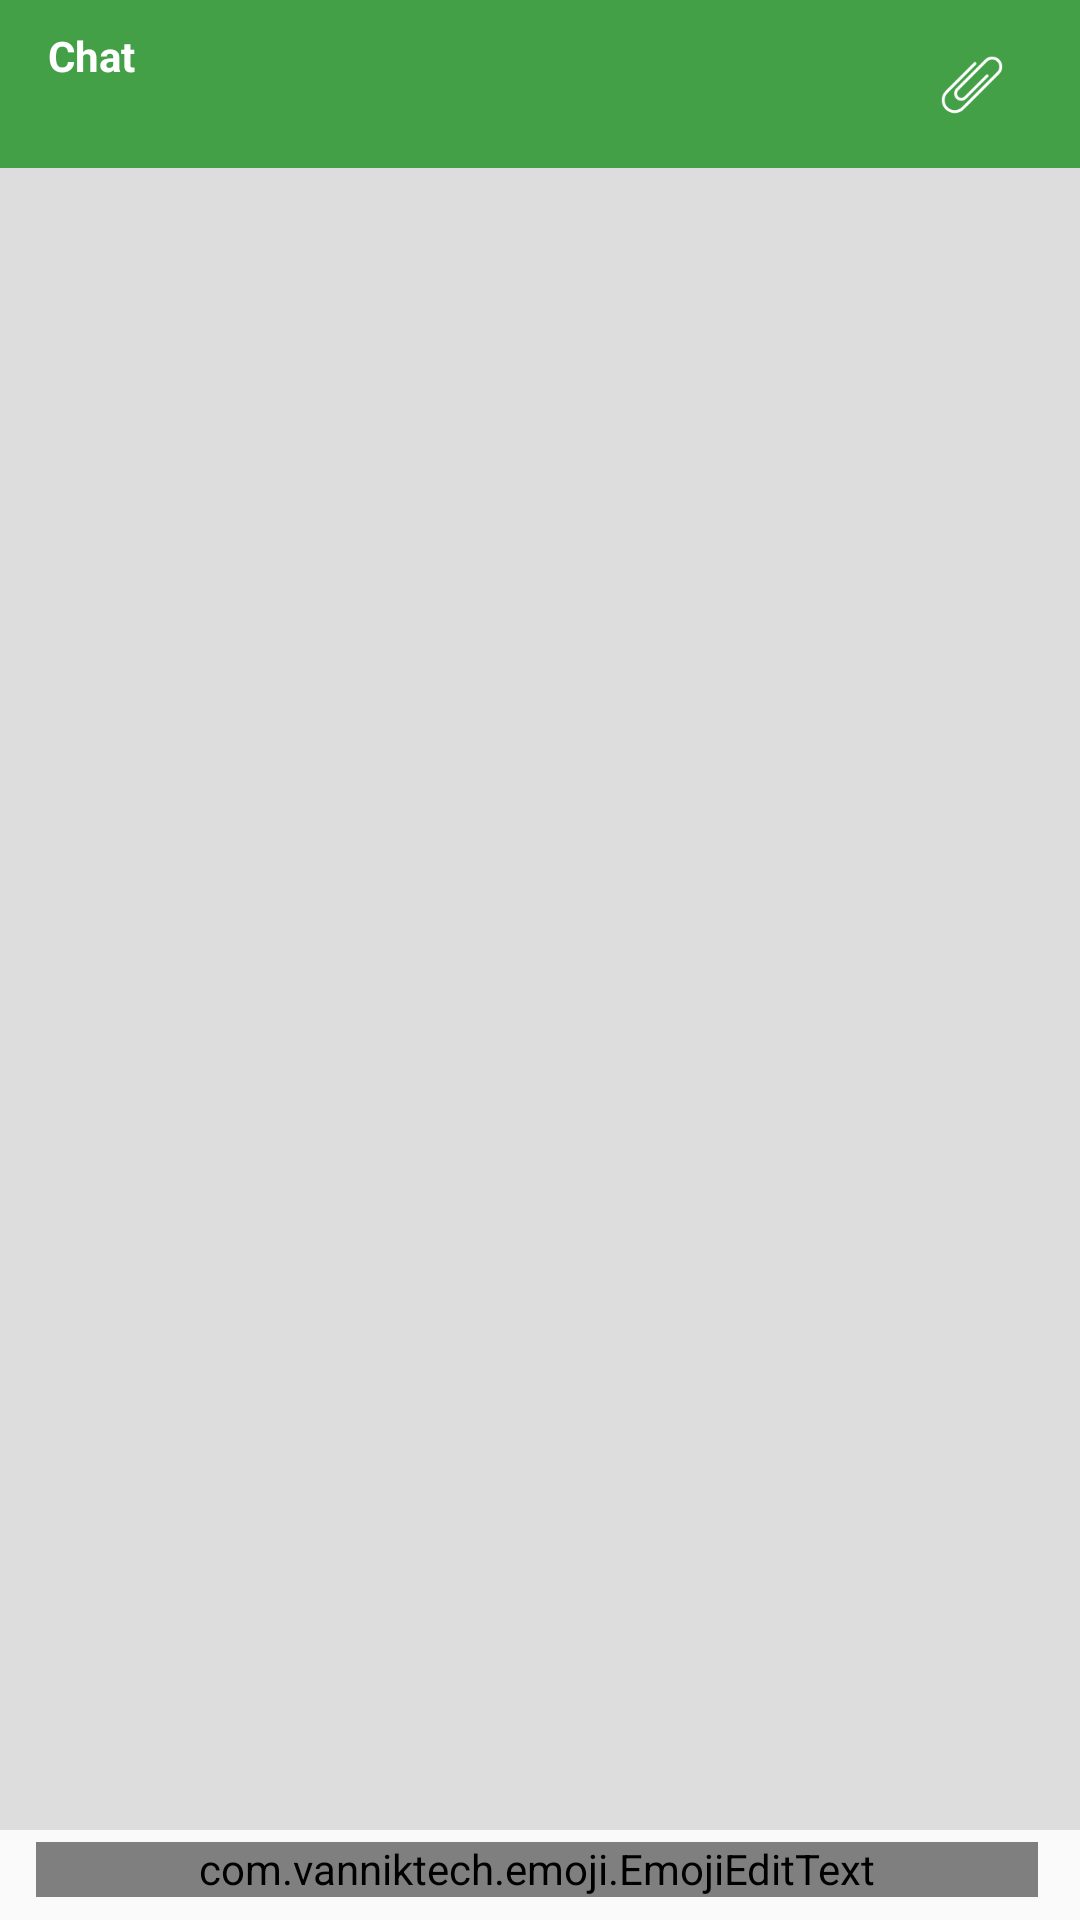

Named icons in this screenshot (1080*1920) and their bounding boxes, (x1, y1, x2, y2):
attach: (941, 56, 1003, 114)
